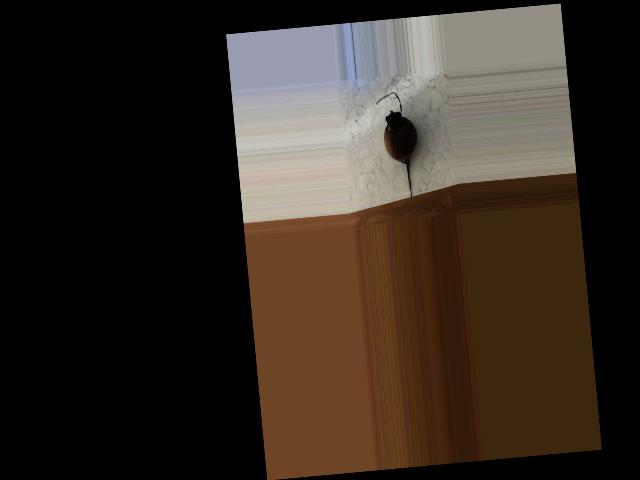beet: (375, 91, 422, 201)
